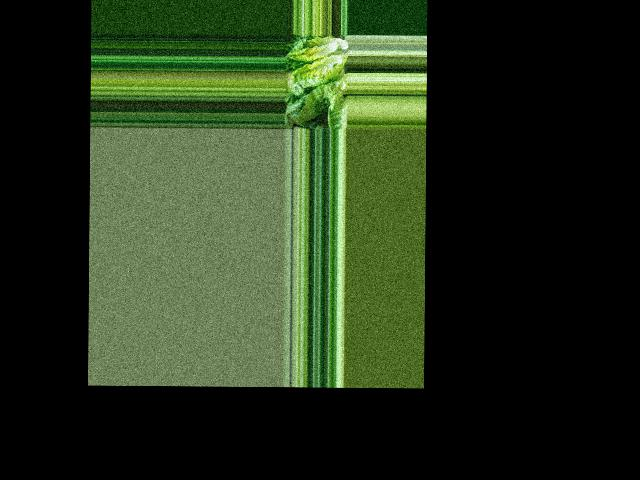lettuce: (289, 36, 349, 97)
